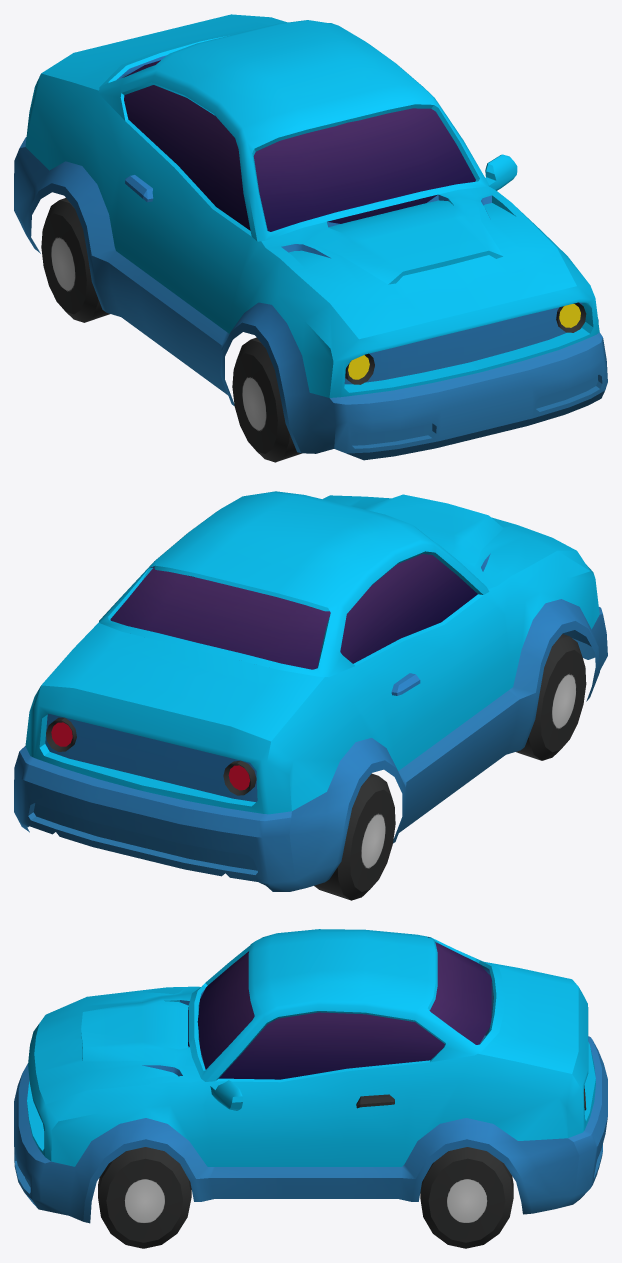
Rendered from FourSeater.fbx.
3 renders of one model, top to bottom at view 1: azimuth 30°, elevation 25°; view 2: azimuth 150°, elevation 25°; view 3: azimuth 270°, elevation 25°, orthographic. The views are drawn at different scales.
Visible parts, largest first — view 1: FourSeater_Body, FourSeater_Removable; view 2: FourSeater_Body, FourSeater_Removable; view 3: FourSeater_Body, FourSeater_Removable.
Part boxes in pixels (<box>): FourSeater_Body: <box>14,14,607,462</box>; FourSeater_Removable: <box>99,20,488,241</box>; FourSeater_Body: <box>14,494,607,900</box>; FourSeater_Removable: <box>99,491,489,677</box>; FourSeater_Body: <box>14,962,607,1248</box>; FourSeater_Removable: <box>188,929,504,1082</box>.
Size of the model in its own units: 646 by 542 by 1240.
1 material, 1 textured.
